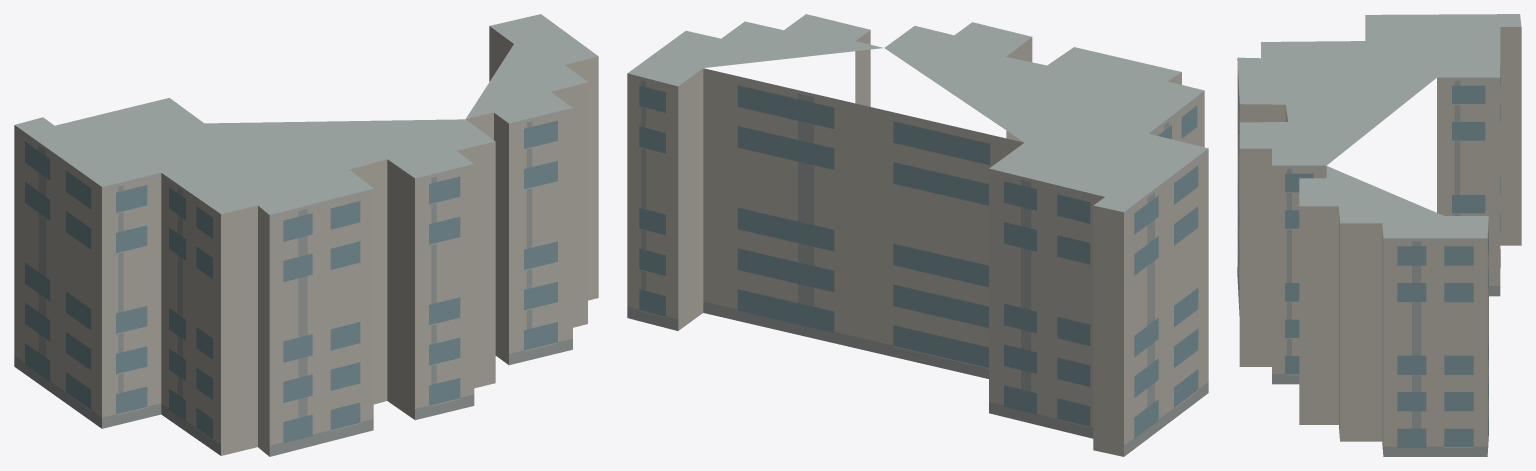
File: survey-upis-33003309.glb
3 renders of one model, left to right at view 1: azimuth 30°, elevation 25°; view 2: azimuth 150°, elevation 25°; view 3: azimuth 270°, elevation 25°, orthographic. The views are drawn at different scales.
Parts seen in each view (by area): view 1: survey-upis-33003309.tmp; view 2: survey-upis-33003309.tmp; view 3: survey-upis-33003309.tmp.
Boxes of the visible parts, box(x1,y1,x2,y2) form: survey-upis-33003309.tmp: box(14, 14, 598, 456); survey-upis-33003309.tmp: box(627, 14, 1208, 456); survey-upis-33003309.tmp: box(1237, 14, 1521, 456).
Bounding box in the file's own units: 38.76 × 17.6 × 20.73.
